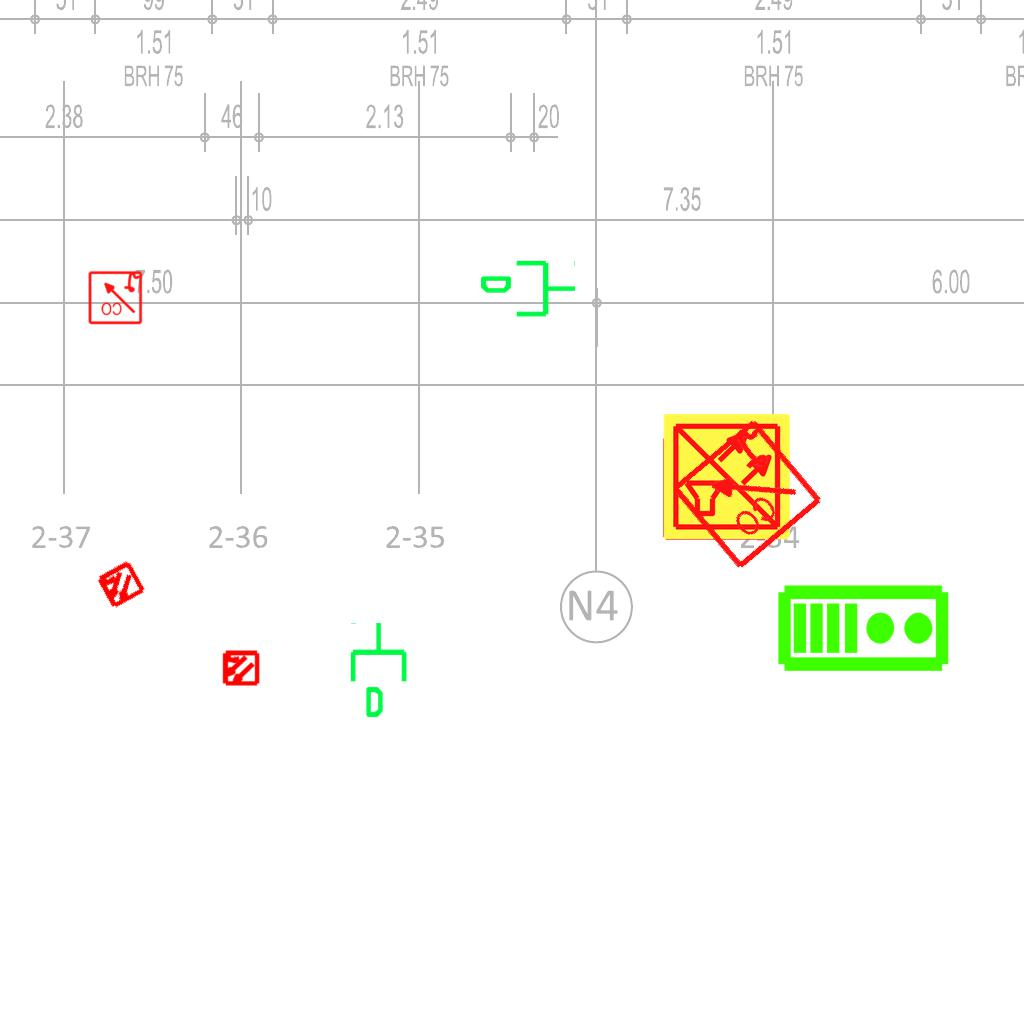Datenanschluss_einfach: (346, 620, 415, 720), (478, 256, 578, 325)
Gegensprechanlage_mit_Video: (776, 579, 952, 674)
OKW_Multisensormelder_(Kombination_optischer_Rauch-Kahlenmonoxid_Waerme-Melder): (661, 411, 793, 543)
OT_Multisensormelder_(Kombination_RMO_WMD): (81, 546, 159, 624), (212, 640, 268, 696)
ROA_Rauchmelder_optisch_mit_Signalgeber_(Sockelsirene): (665, 413, 826, 574), (87, 269, 143, 325)
